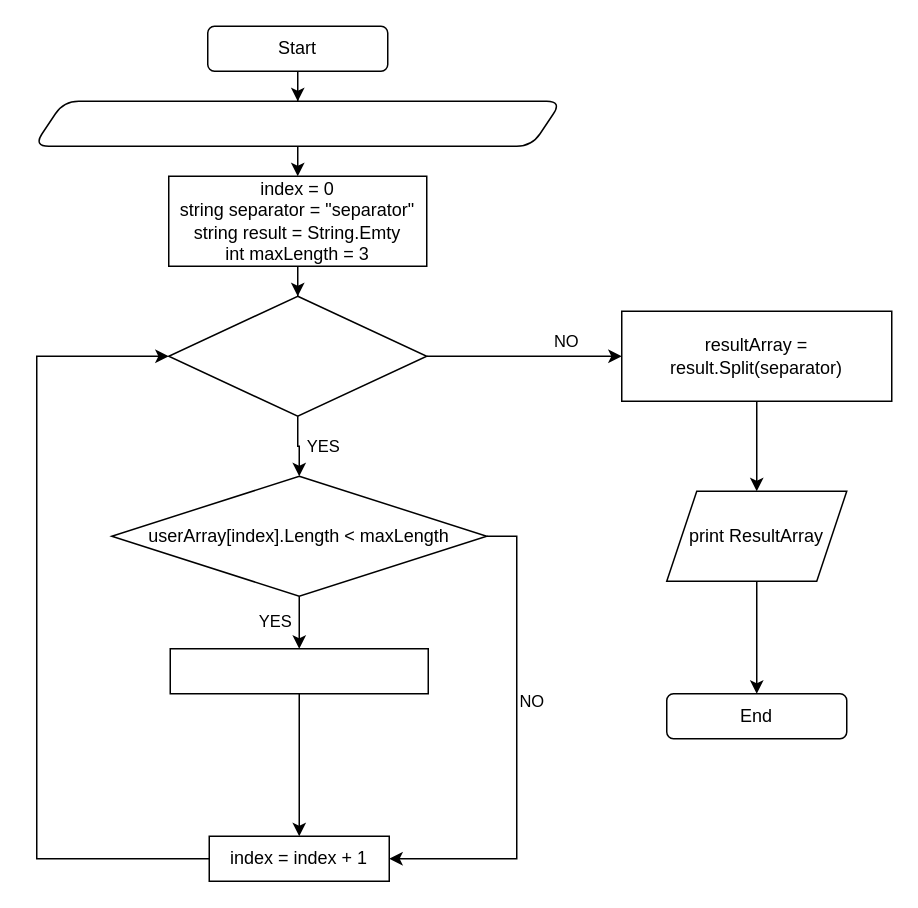
Image size: 918x908. Some labels were removed from this diagram. The box of each missing label's shape, as (x1, y1, x2, y2) in pixels:
index < userArray.length: (167, 295, 427, 416)
result = userArray[index] + separator: (169, 647, 428, 694)
userArray = ["randStr", "randStr", "randStr"]: (32, 100, 562, 146)
